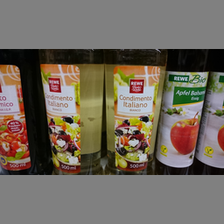vinegar: (101, 50, 162, 174), (41, 57, 104, 173), (155, 51, 208, 173), (1, 54, 45, 175)
